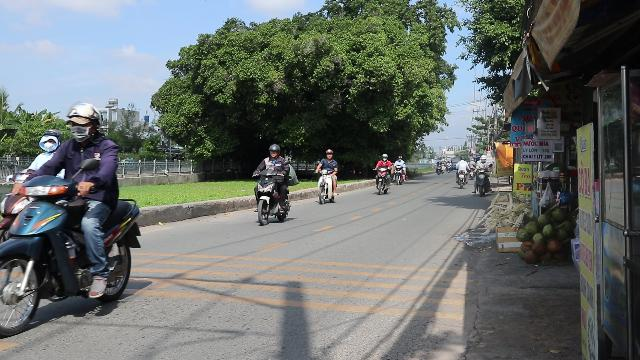helmet: (64, 102, 98, 144), (36, 128, 62, 154), (269, 144, 281, 156)
motorcyclist: (1, 100, 145, 328), (250, 144, 294, 224)
